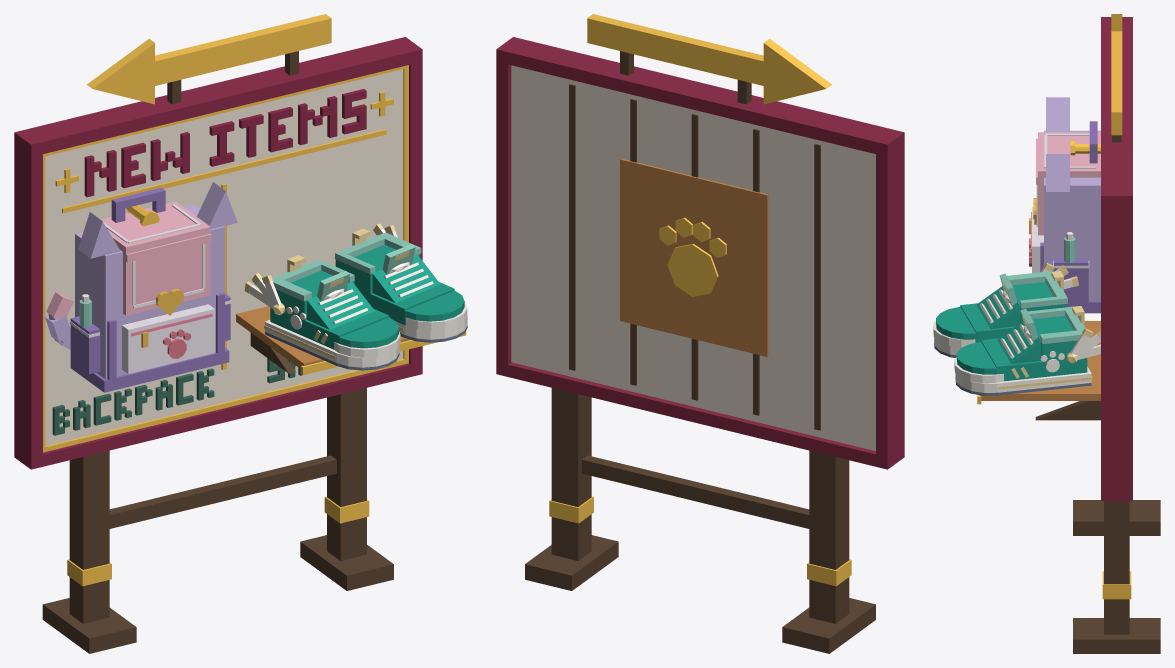
File: CatCafe_Square_MysterySign.glb
3 renders of one model, left to right at view 1: azimuth 30°, elevation 25°; view 2: azimuth 150°, elevation 25°; view 3: azimuth 270°, elevation 25°, orthographic. The views are drawn at different scales.
Visible parts, largest first — view 1: CatCafe_Square_MysterySign, CatCafe_Square_MysterySign_Backpack_Decor, CatCafe_Square_MysterySign_ShoeRight_Decor, CatCafe_Square_MysterySign_ShoeLeft_Decor, CatCafe_Square_MysterySign_BackpackLid_Decor; view 2: CatCafe_Square_MysterySign; view 3: CatCafe_Square_MysterySign, CatCafe_Square_MysterySign_Backpack_Decor, CatCafe_Square_MysterySign_ShoeLeft_Decor, CatCafe_Square_MysterySign_ShoeRight_Decor, CatCafe_Square_MysterySign_BackpackLid_Decor.
Boxes of the visible parts, x1,y1,x2,y2 form: CatCafe_Square_MysterySign: [14, 14, 466, 653]; CatCafe_Square_MysterySign_Backpack_Decor: [45, 182, 237, 392]; CatCafe_Square_MysterySign_ShoeRight_Decor: [244, 255, 400, 370]; CatCafe_Square_MysterySign_ShoeLeft_Decor: [335, 223, 467, 342]; CatCafe_Square_MysterySign_BackpackLid_Decor: [101, 201, 211, 262]; CatCafe_Square_MysterySign: [496, 14, 904, 653]; CatCafe_Square_MysterySign: [977, 14, 1160, 653]; CatCafe_Square_MysterySign_Backpack_Decor: [1029, 97, 1100, 313]; CatCafe_Square_MysterySign_ShoeLeft_Decor: [954, 306, 1100, 395]; CatCafe_Square_MysterySign_ShoeRight_Decor: [933, 262, 1079, 357]; CatCafe_Square_MysterySign_BackpackLid_Decor: [1036, 132, 1100, 184].
Size of the model in its own units: 5.32 by 7.47 by 2.85.
Materials: 1 (1 with a texture image).
